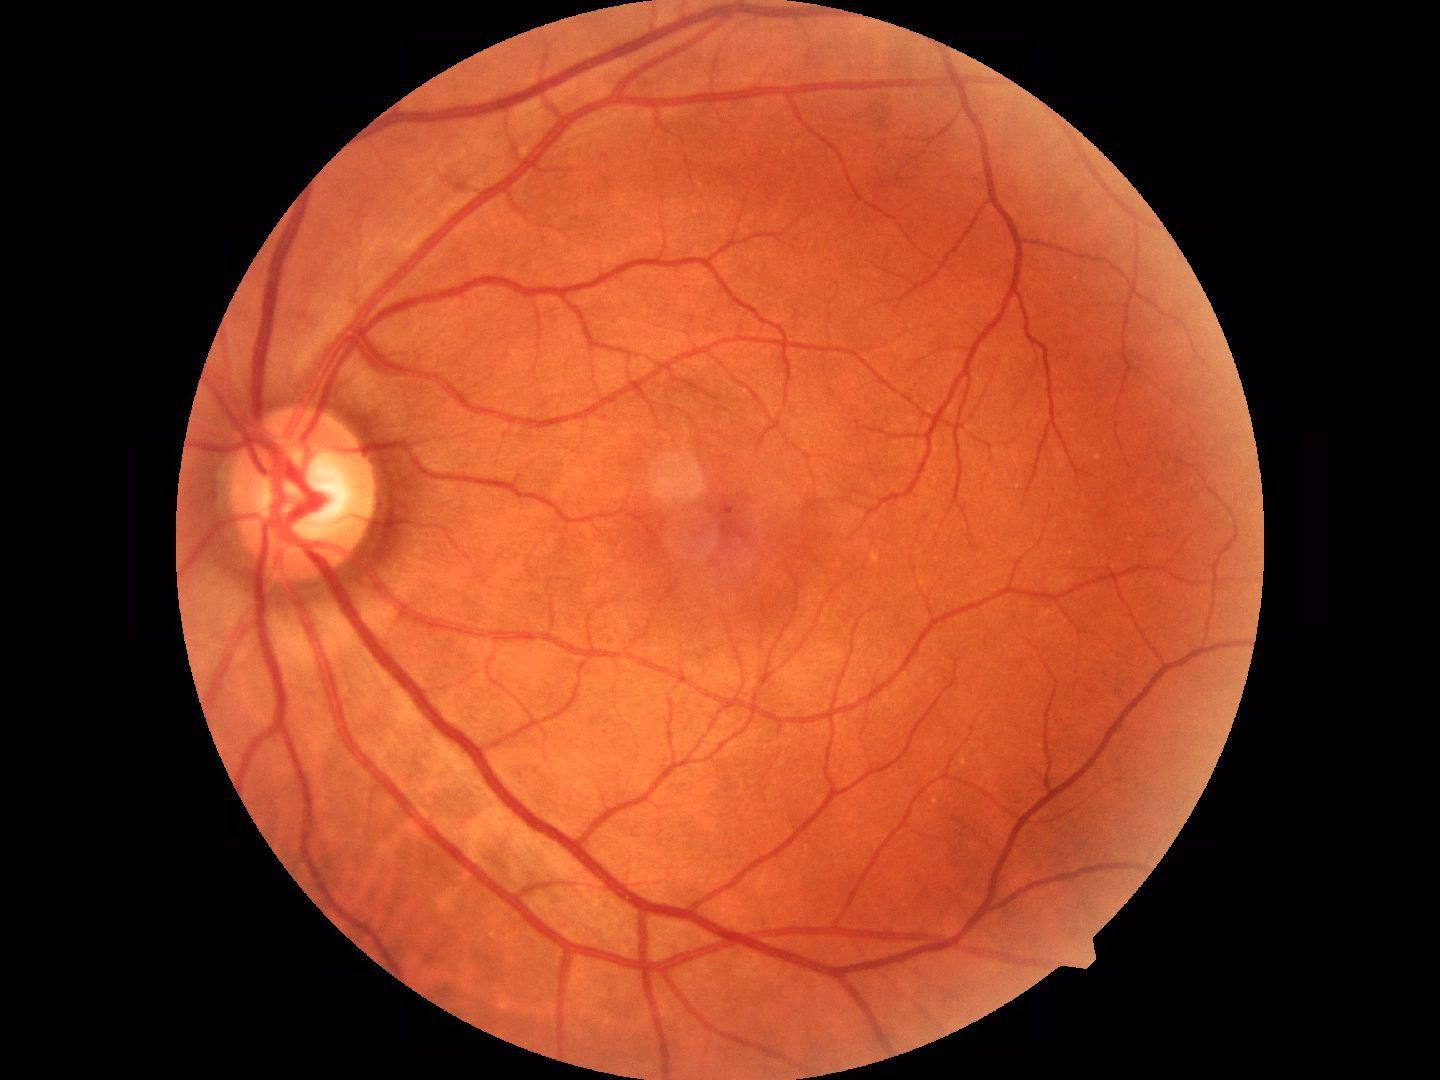Arterioles: (613, 256, 1016, 498), (674, 660, 1030, 847)
Optic-Disc: (213, 404, 378, 589)
Venules: (253, 613, 494, 821), (257, 251, 513, 394)
